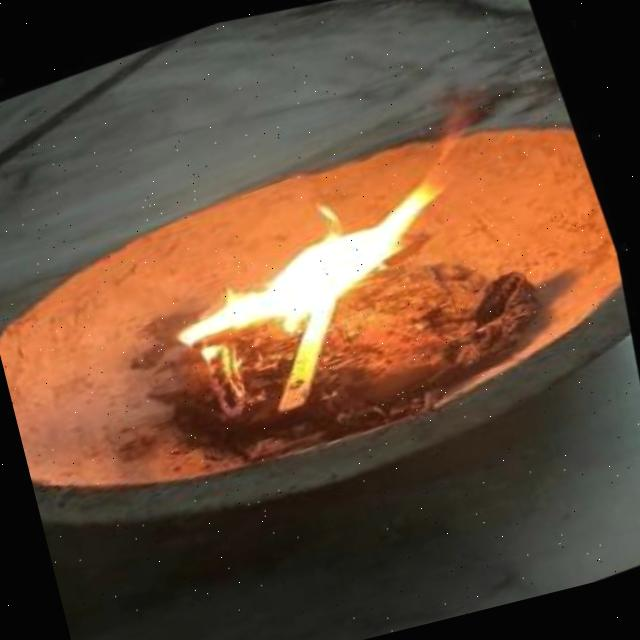fire: (123, 84, 525, 400)
